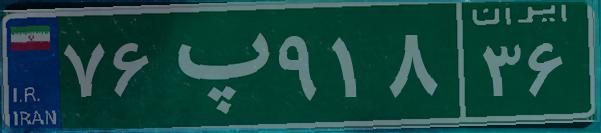1: (330, 28, 385, 110)
3: (475, 38, 525, 113)
6: (110, 28, 158, 105), (525, 38, 570, 115)
7: (57, 26, 110, 107)
8: (385, 28, 445, 110)
9: (273, 28, 330, 110)
پ: (158, 15, 273, 115)
